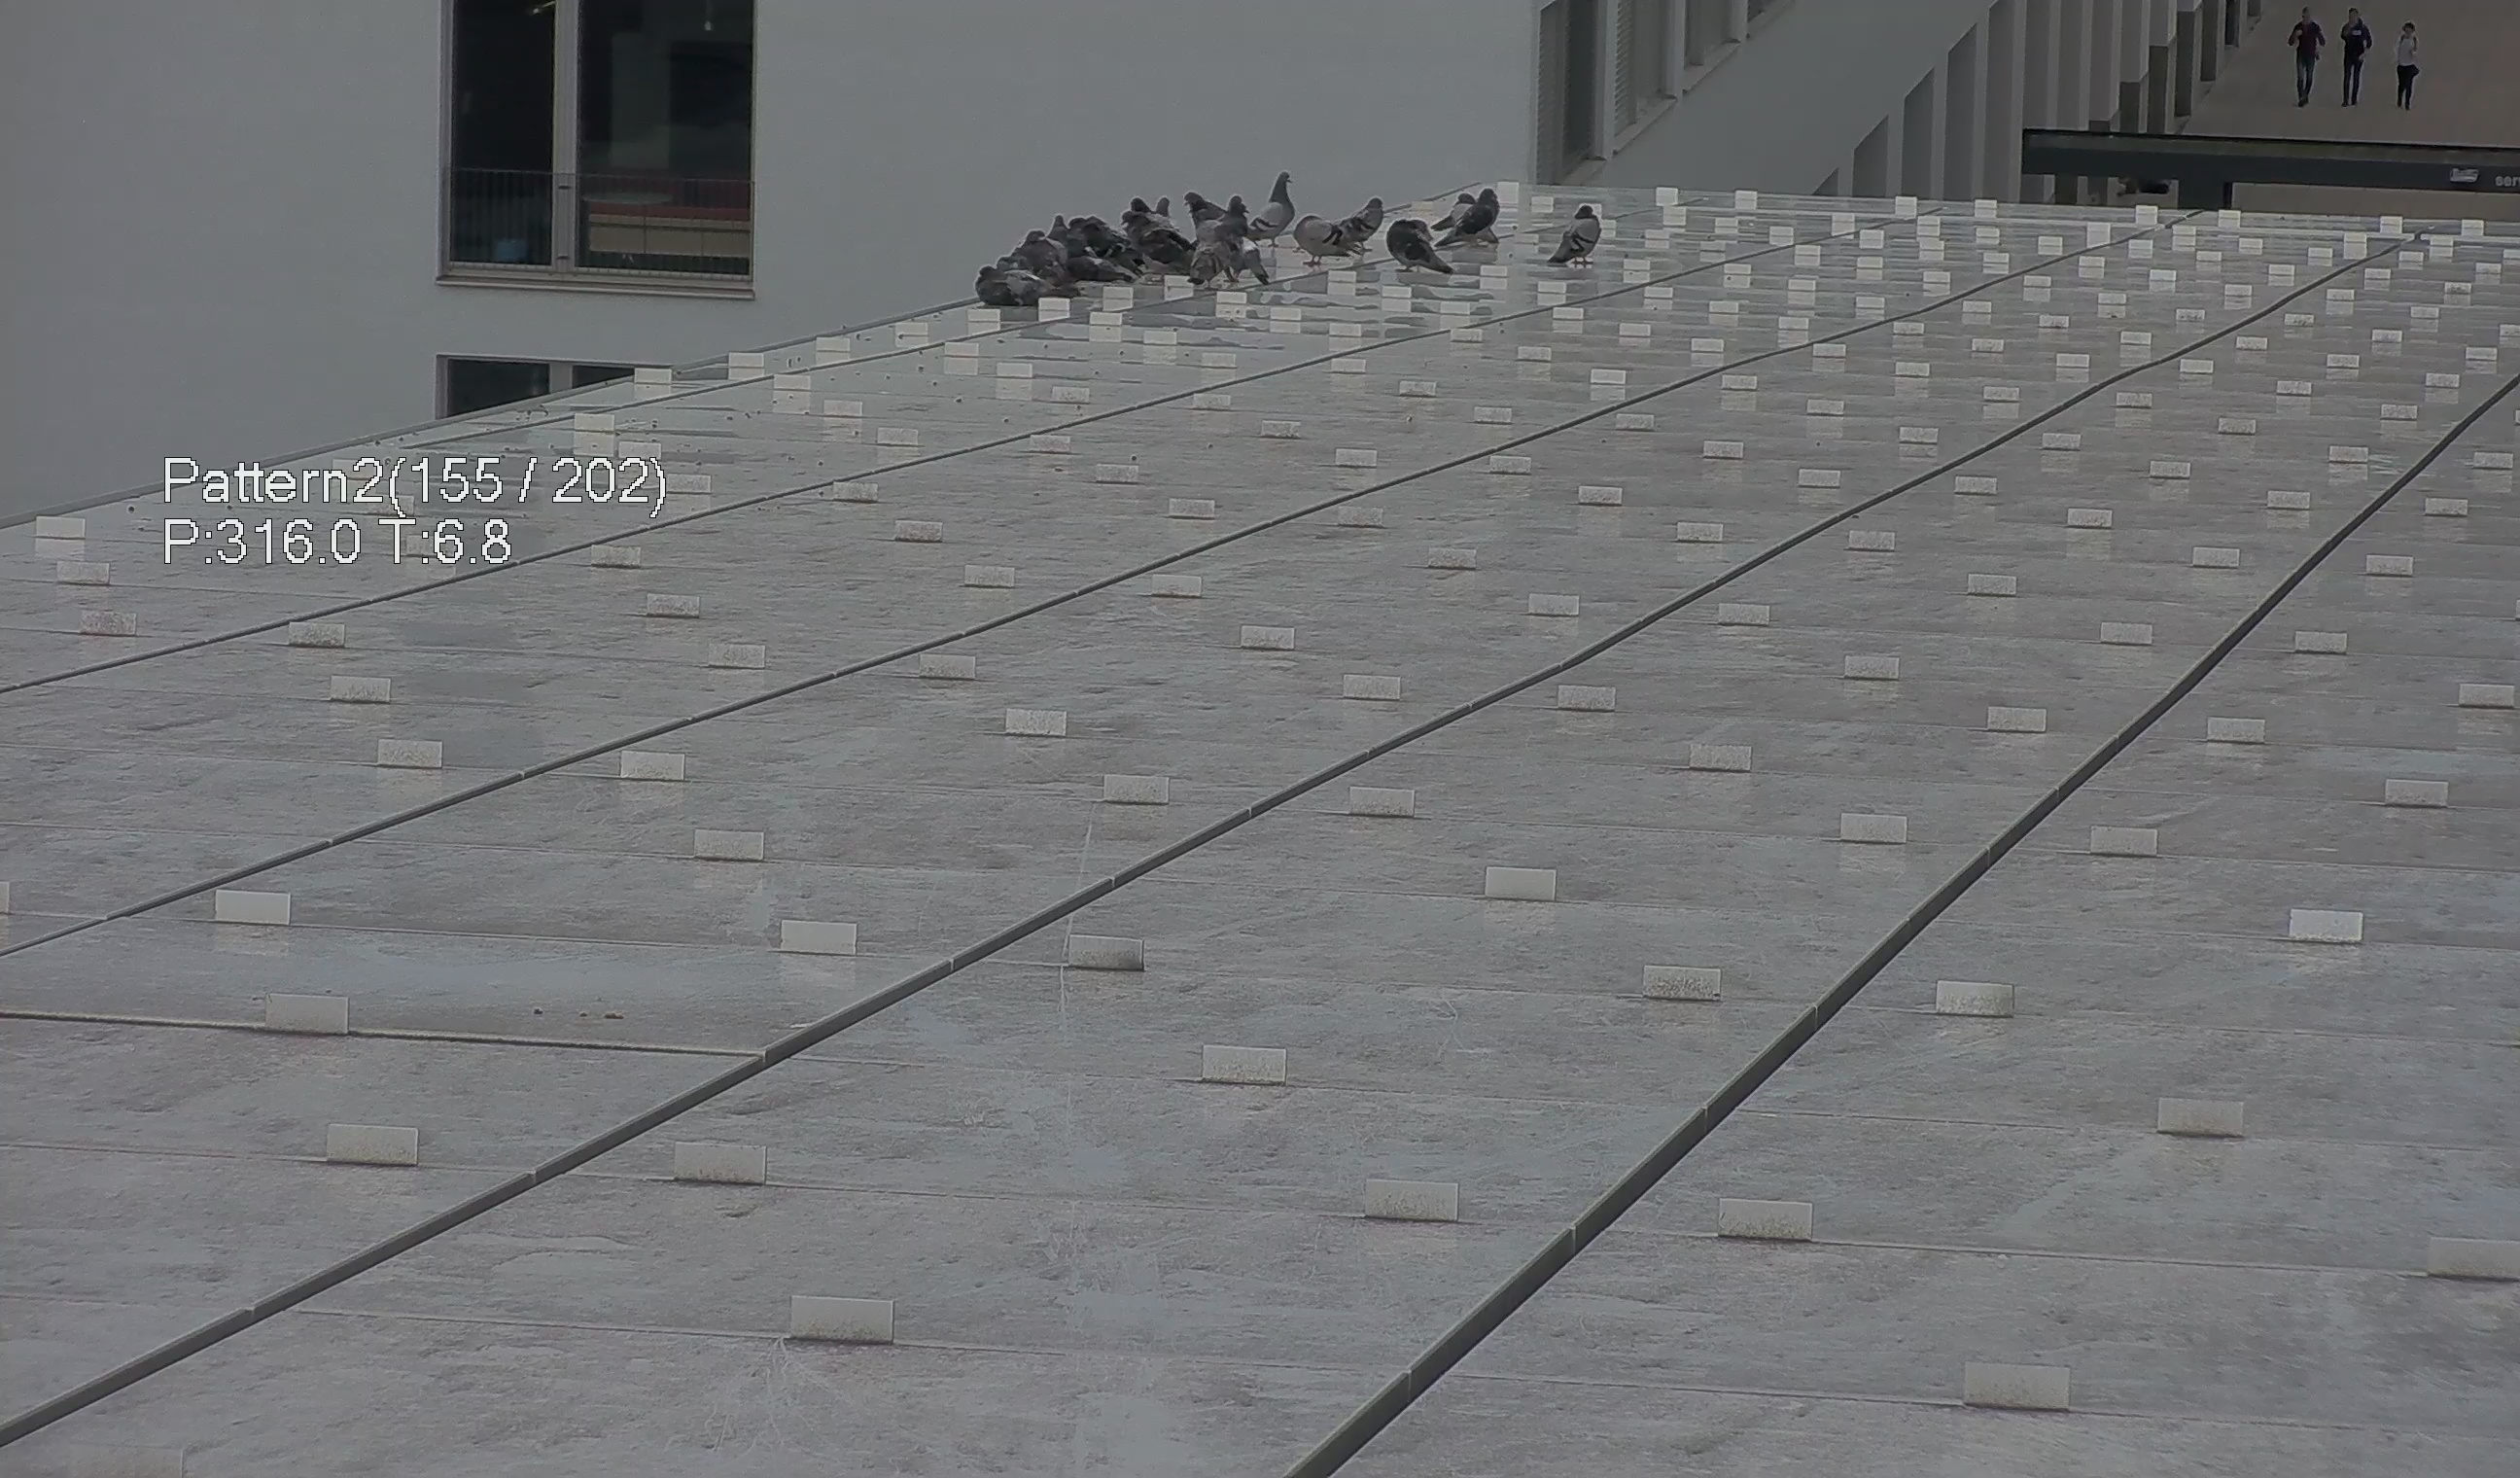Pigeon: (1180, 183, 1275, 294), (1386, 206, 1465, 282), (1275, 204, 1370, 264), (967, 266, 1087, 310), (1113, 206, 1189, 264), (1542, 201, 1602, 273), (1444, 185, 1507, 245), (1249, 169, 1298, 234), (1340, 195, 1395, 248), (1173, 183, 1226, 227)
